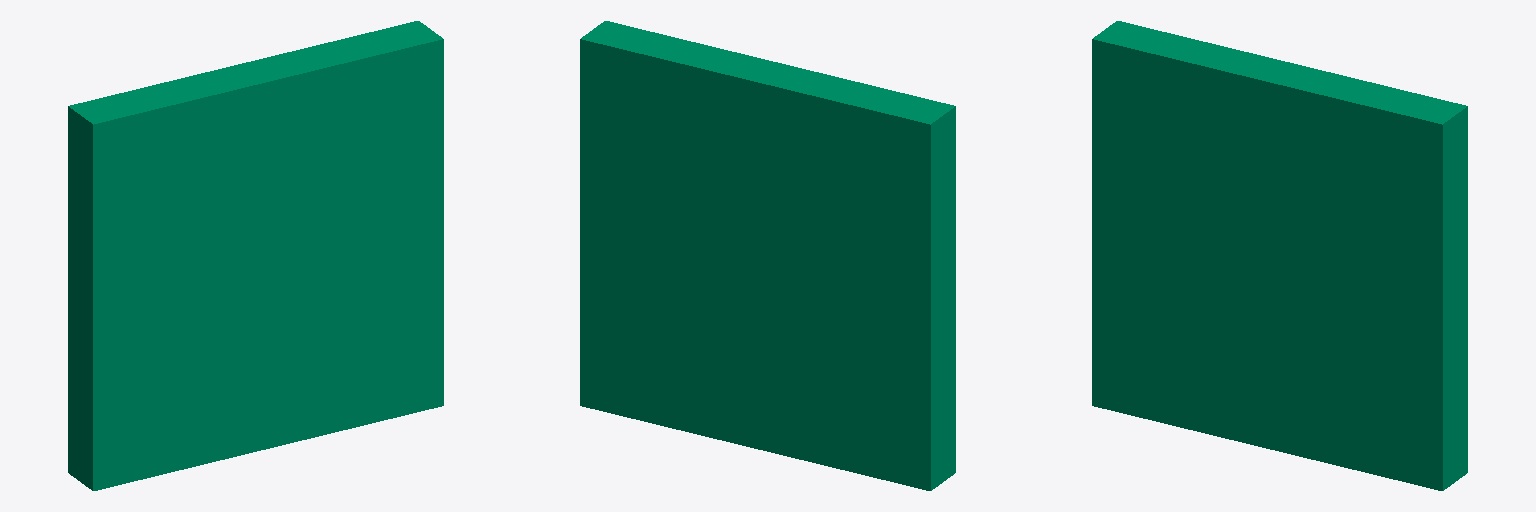
URDF robot description (catch01):
<?xml version='1.0' encoding='utf-8'?>
<robot name="catch01">
  <link name="base_link">
    <visual>
      <geometry>
        <mesh filename="satellite.stl" />
      </geometry>
    </visual>
    <collision>
      <geometry>
        <mesh filename="satellite.stl" />
      </geometry>
    </collision>
  </link>
  <link name="catch01_mount" />
  <joint name="satellite_mount_fixed" type="fixed">
    <parent link="base_link" />
    <child link="catch01_mount" />
    <origin xyz="0.09559771518449763 -1.6485399213057776 -0.16306270113460017" rpy="1.5707963267948966 -1.5707963267948966 0.0" />
  </joint>
  <link name="mount_support">
    <visual>
      <geometry>
        <mesh filename="mount_support.stl" />
      </geometry>
    </visual>
    <collision>
      <geometry>
        <mesh filename="mount_support.stl" />
      </geometry>
    </collision>
  </link>
  <joint name="support_fixed" type="fixed">
    <parent link="catch01_mount" />
    <child link="mount_support" />
    <origin xyz="0 0 0" rpy="0 0 0" />
  </joint>
</robot>

--- Render facts (derived) ---
3 views of the same robot in one strip: view 1: azimuth 30°, elevation 25°; view 2: azimuth 150°, elevation 25°; view 3: azimuth 330°, elevation 25° (orthographic).
Robot: catch01 — 3 links, 2 joints (2 fixed); root link base_link; default pose: every joint at zero.
Visible links, largest first — view 1: mount_support; view 2: mount_support; view 3: mount_support.
Boxes of the visible links, x1,y1,x2,y2 form: mount_support: (68, 21, 443, 490); mount_support: (580, 21, 955, 490); mount_support: (1092, 21, 1467, 490).
Size in the robot's own frame: 0.32 by 0.04 by 0.32 metres.
1 mesh visuals loaded from 2 distinct referenced files (1 binary STL); not drawn: 1 (reference not matched to a file when rendering).
